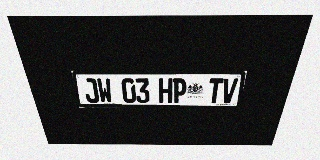0: (121, 78, 136, 103)
3: (135, 78, 150, 103)
H: (159, 78, 173, 103)
J: (82, 78, 100, 103)
P: (172, 78, 187, 103)
T: (207, 78, 224, 103)
V: (221, 78, 238, 103)
W: (96, 78, 113, 103)
